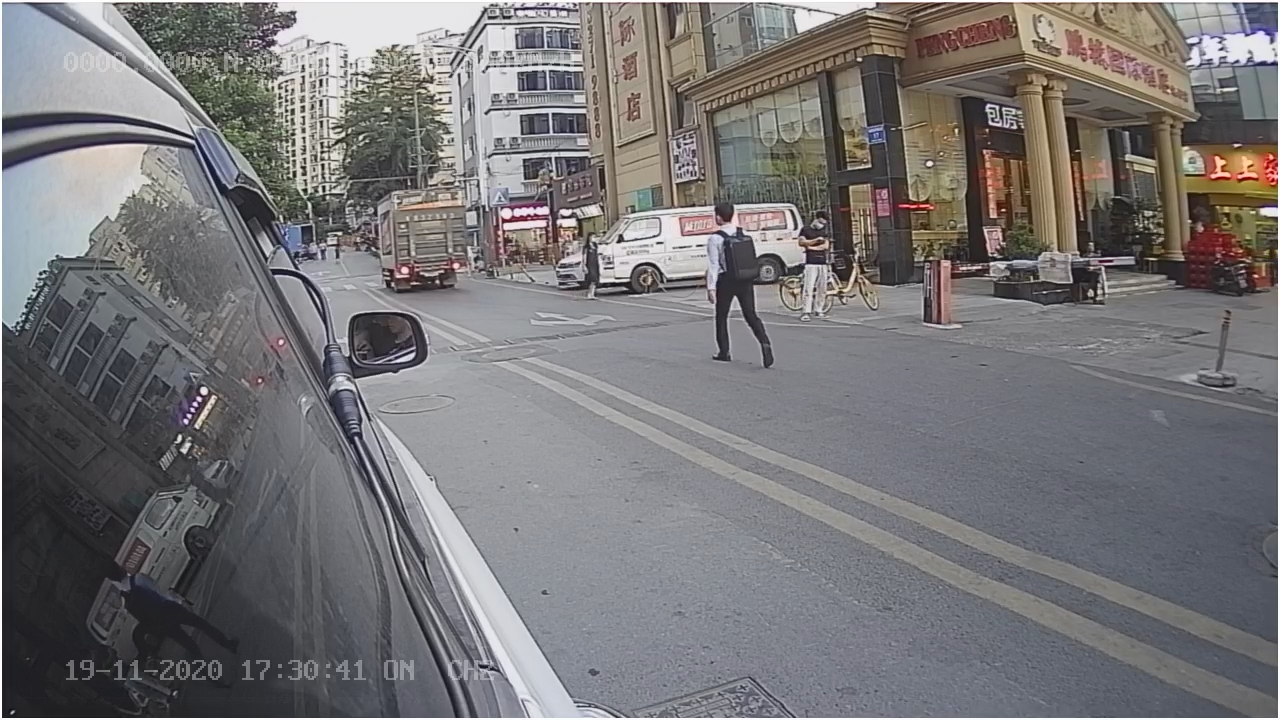person: (699, 199, 778, 362)
